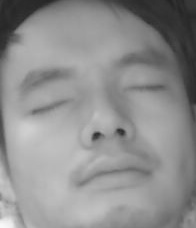blink: (123, 77, 166, 103), (31, 94, 73, 116)
mouth: (74, 151, 153, 194)
